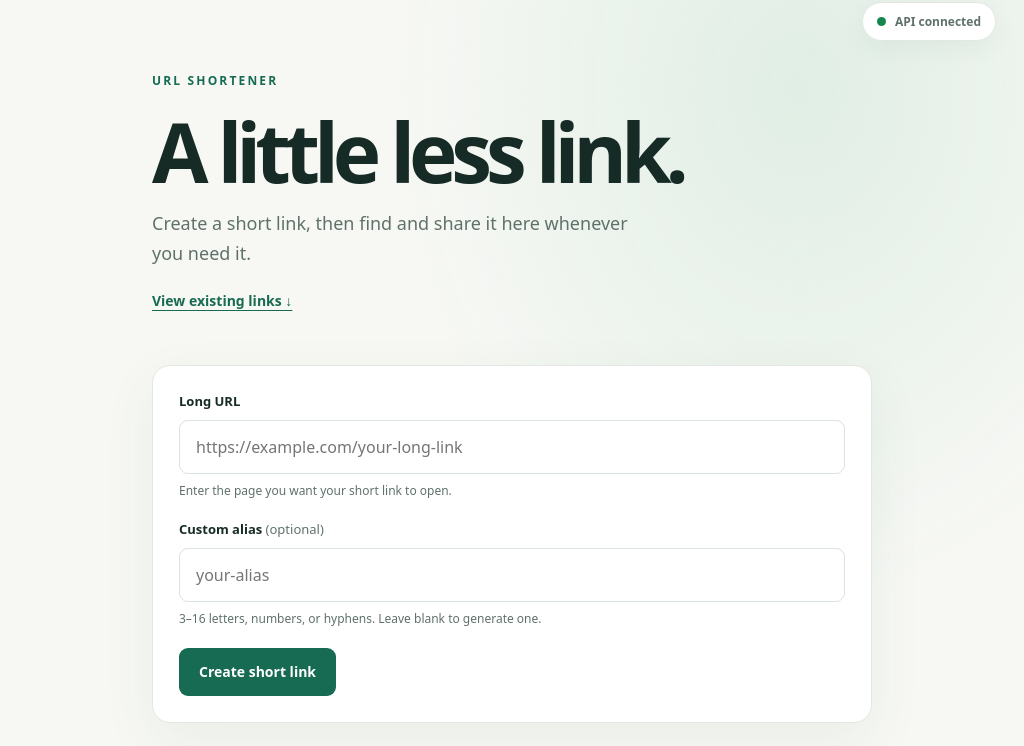
Test: Home link workspace › adds a created link to the list and updates the result count
The width and height of the screenshot is (1024, 746).
In the field labelled "Long URL": (512, 447) [179,420,845,474], type "https://example.com/page"
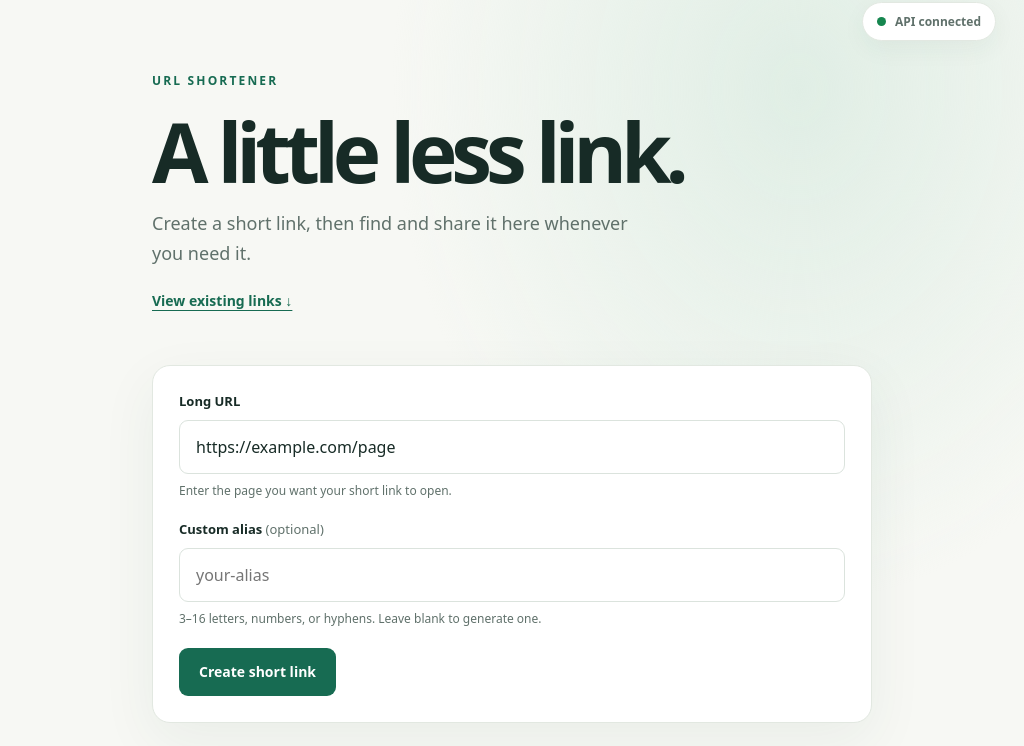
In the field labelled "Custom alias (optional)": (512, 575) [179,548,845,602], type "new-link"
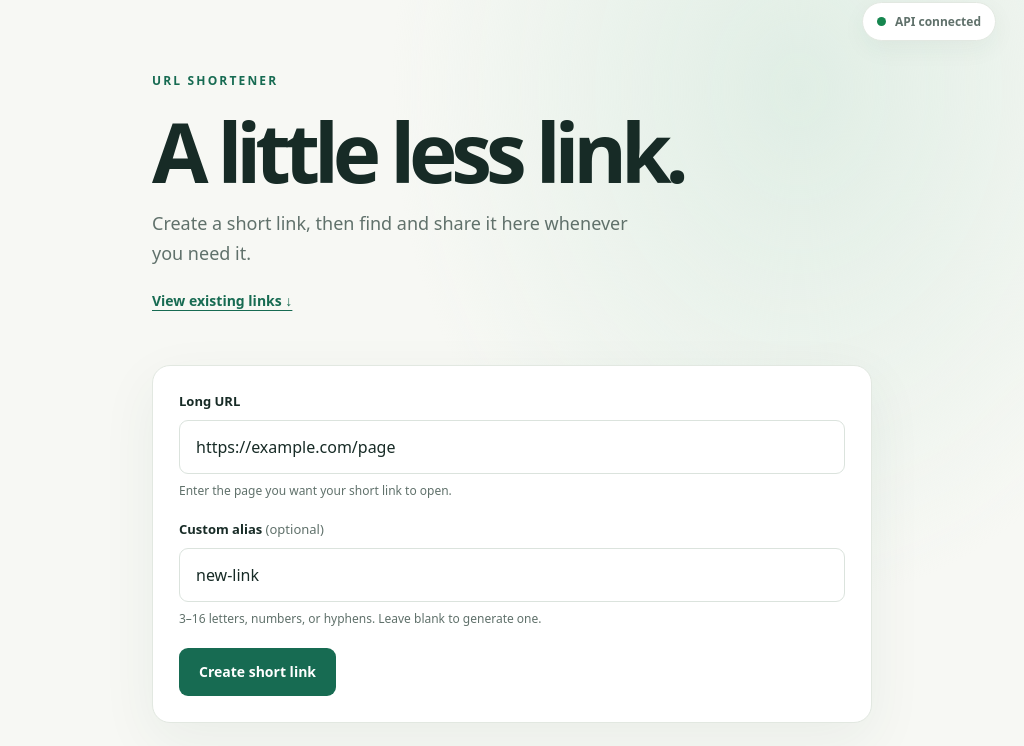
Click the button "Create short link": (258, 672) [179,648,336,696]
(page scrolled)
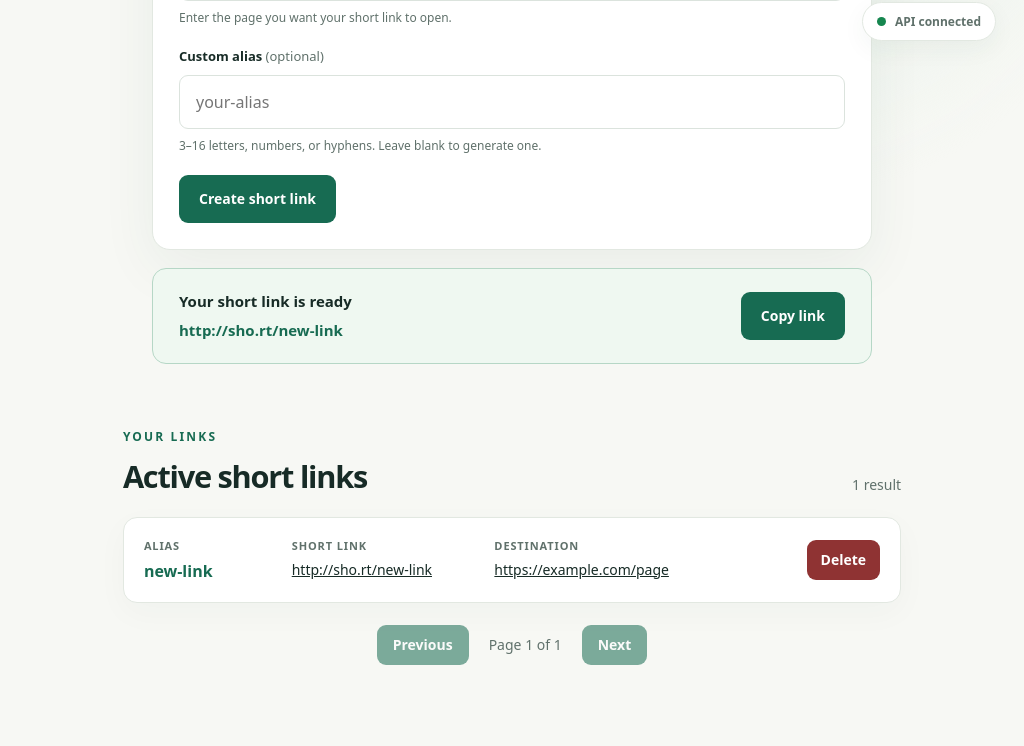
Now the text "1 result" is shown, box [852,475,901,494]
